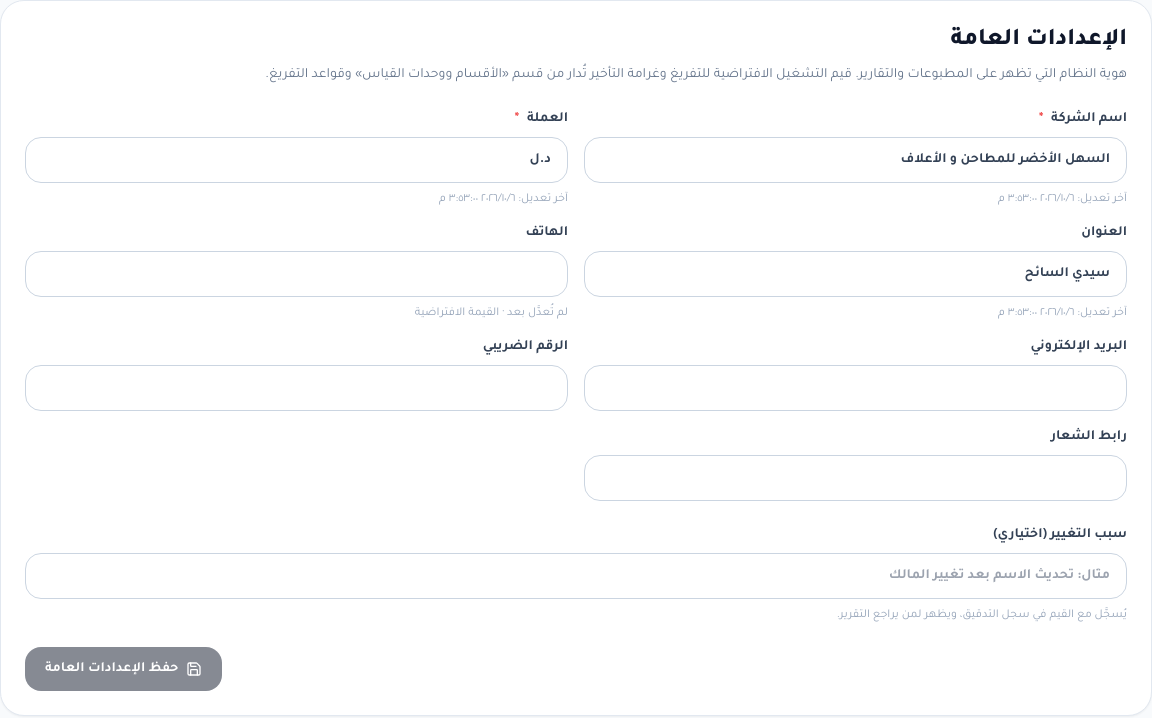
Test: GeneralSettings › says a concurrent save was refused instead of overwriting it
Replace the text in the field showing "د.ل" with "ج.م". click: (296, 160)
box: [25,137,568,183]
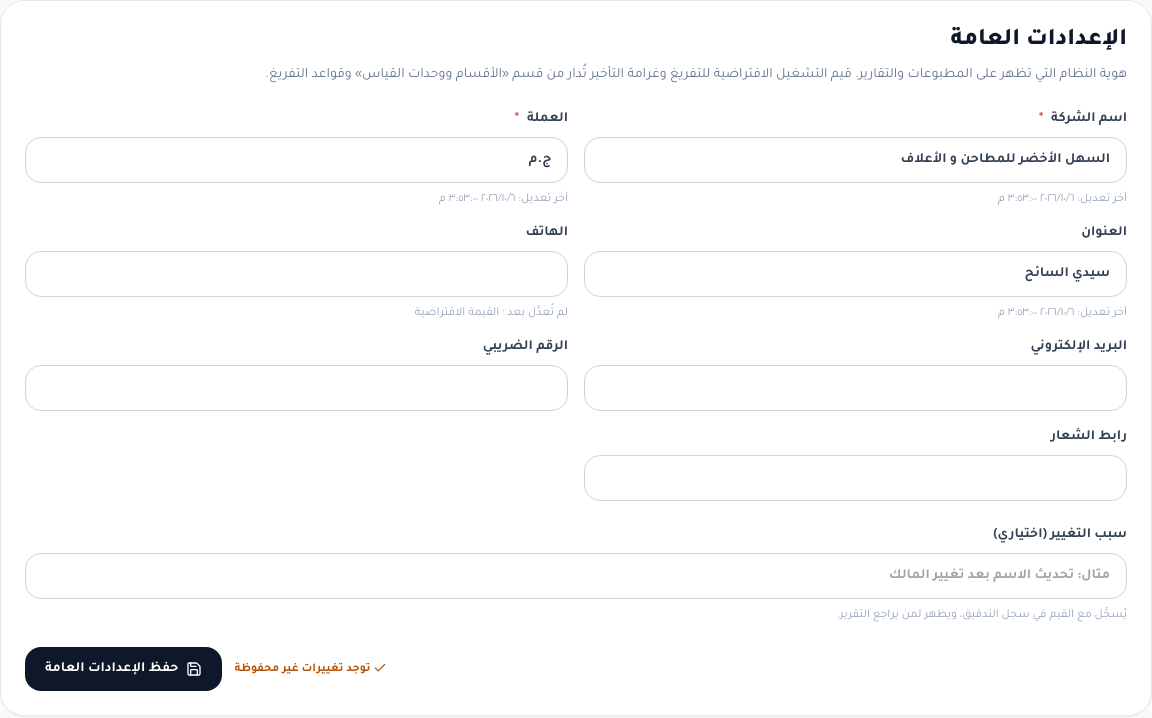
Click the button "حفظ الإعدادات العامة". click: click(124, 669)
box: [25,647,222,691]
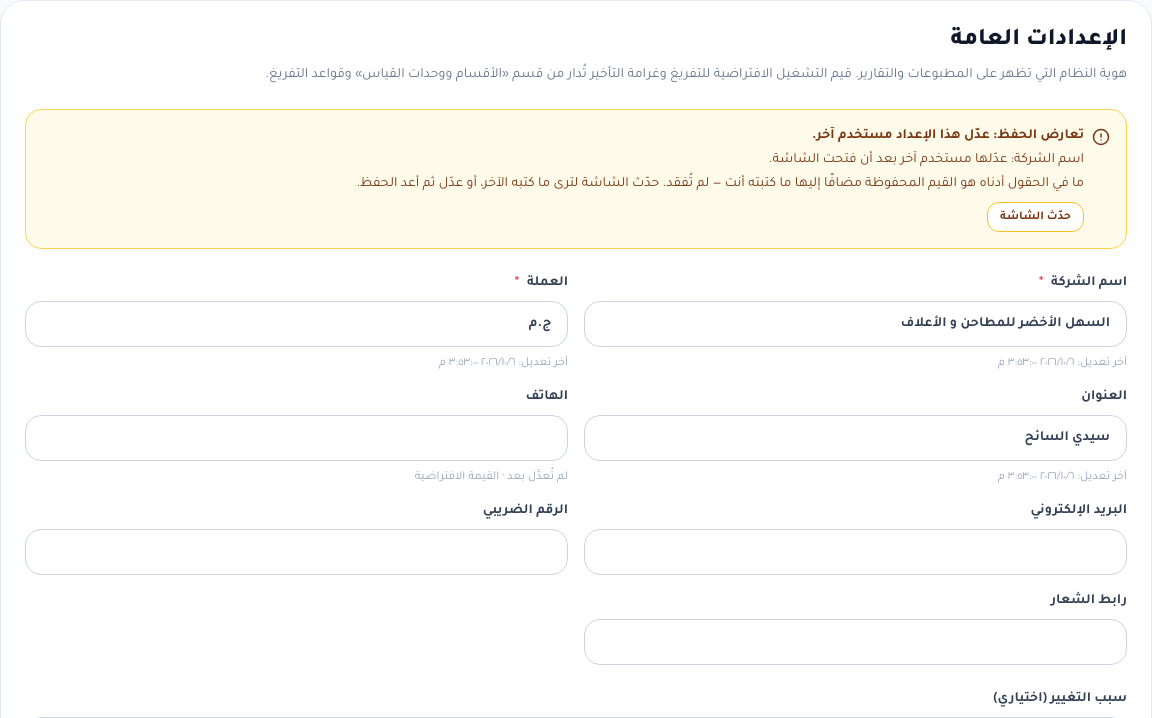
Result: the text "اسم الشركة: عدّلها مستخدم آخر بعد أن فتحت الشاشة." is shown at [769,153,1084,167]
